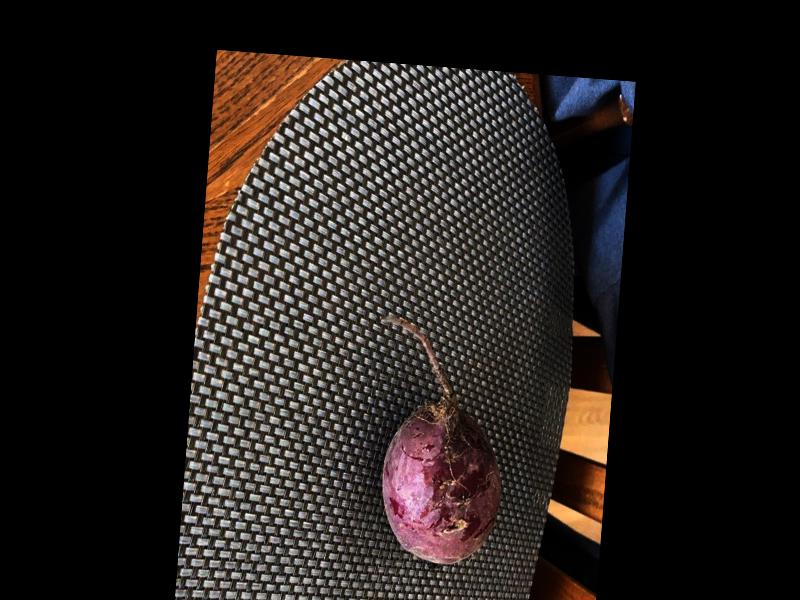Beet: (362, 314, 514, 565)
